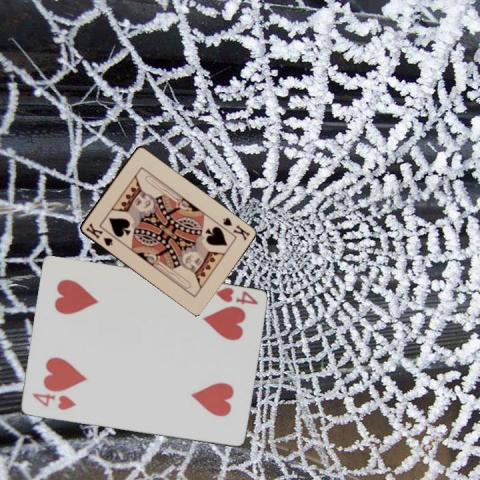4h: (30, 390, 78, 412), (212, 284, 260, 306)
Ks: (219, 215, 251, 242), (83, 220, 114, 247)
